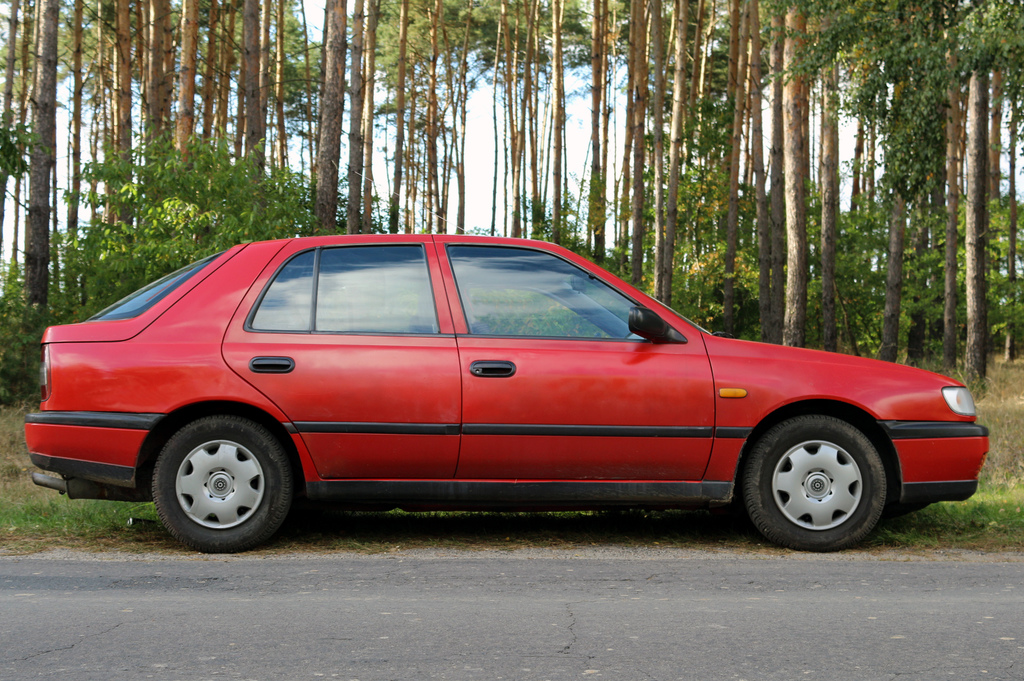Car: (21, 237, 947, 547)
